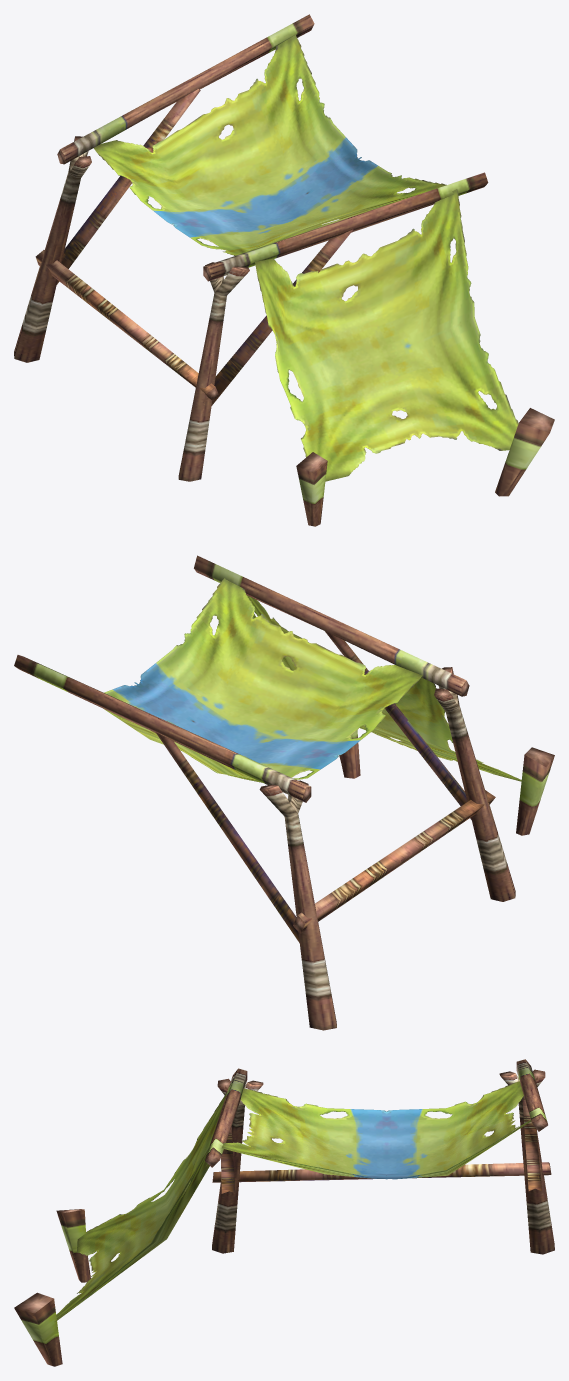
File: goblintent01.obj
The picture shows the model from 3 angles, top to bottom: view 1: azimuth 30°, elevation 25°; view 2: azimuth 150°, elevation 25°; view 3: azimuth 270°, elevation 25°; orthographic projection. The views are drawn at different scales.
Parts seen in each view (by area): view 1: goblintent01; view 2: goblintent01; view 3: goblintent01.
Part boxes in pixels (box(x1,y1,x2,y2)): goblintent01: box(14, 14, 554, 526); goblintent01: box(14, 555, 554, 1030); goblintent01: box(14, 1059, 554, 1366).
Size of the model in its own units: 4.71 by 4.22 by 7.57.
